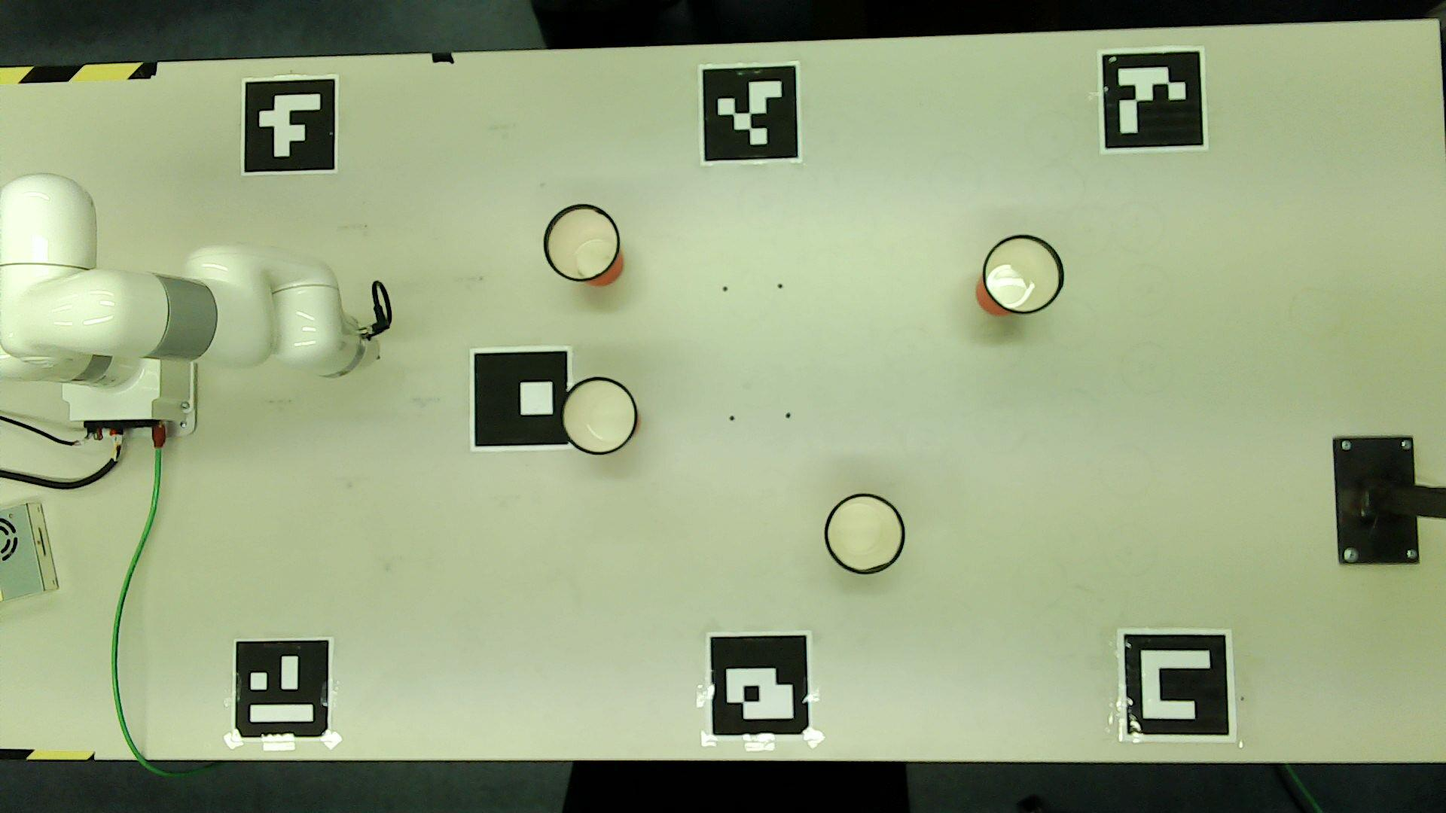cup: (985, 236, 1062, 313), (826, 496, 902, 571), (545, 207, 619, 279), (564, 378, 635, 452)
